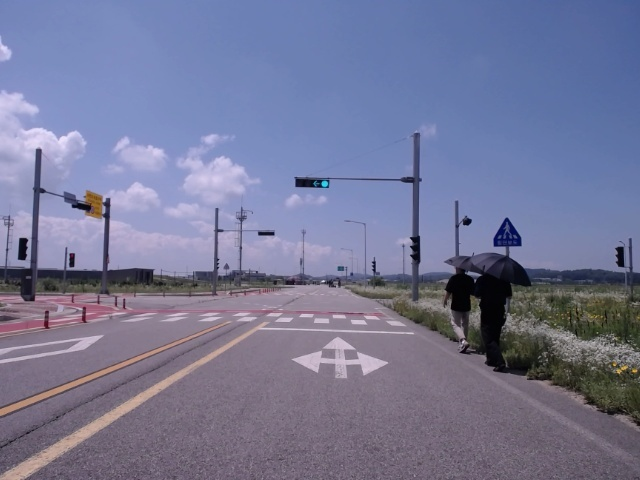all_green_4: (292, 178, 332, 189)
